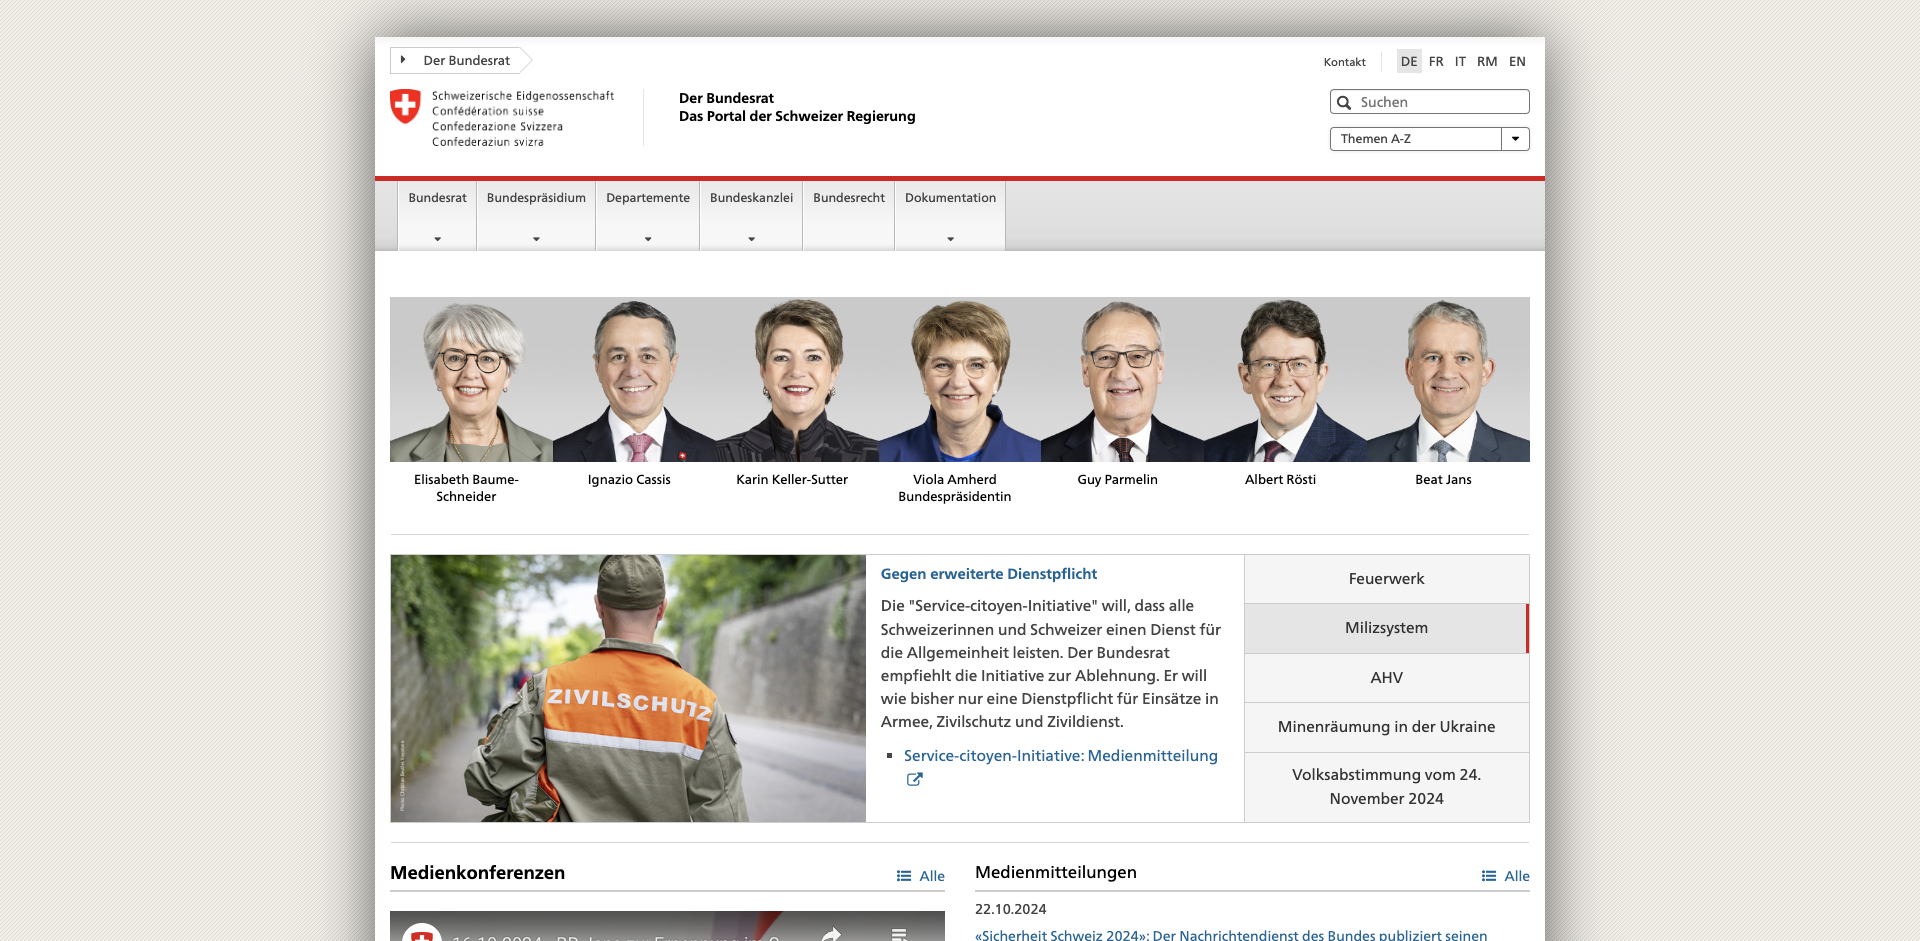button: (1333, 91, 1360, 115), (1502, 91, 1524, 110)
dropdown: (476, 180, 596, 250), (895, 180, 1007, 250), (596, 180, 700, 250), (700, 180, 803, 250), (803, 180, 895, 250), (398, 180, 476, 250), (1330, 125, 1531, 151), (389, 47, 520, 75)
input: (1330, 89, 1531, 114)
label: (1329, 88, 1330, 89)
link: (389, 89, 960, 146), (389, 368, 552, 505), (878, 368, 1041, 505), (1244, 752, 1529, 822), (552, 368, 715, 488), (715, 368, 878, 488), (1041, 368, 1204, 488), (1204, 368, 1367, 488), (1367, 368, 1529, 488), (1244, 604, 1529, 653), (1244, 653, 1529, 702), (1244, 555, 1529, 603), (1244, 703, 1529, 751), (905, 746, 1218, 789), (478, 180, 595, 250), (896, 180, 1005, 250), (391, 679, 866, 695), (598, 180, 699, 250), (702, 180, 802, 250), (975, 928, 1488, 941), (804, 180, 894, 250), (399, 180, 476, 250), (1330, 126, 1531, 151), (880, 565, 1097, 583), (389, 47, 520, 75), (1482, 861, 1531, 887), (898, 861, 945, 887), (1473, 49, 1501, 74), (1505, 49, 1531, 74), (1397, 49, 1422, 74), (1324, 55, 1365, 69), (1425, 49, 1447, 74), (1451, 49, 1469, 74)
